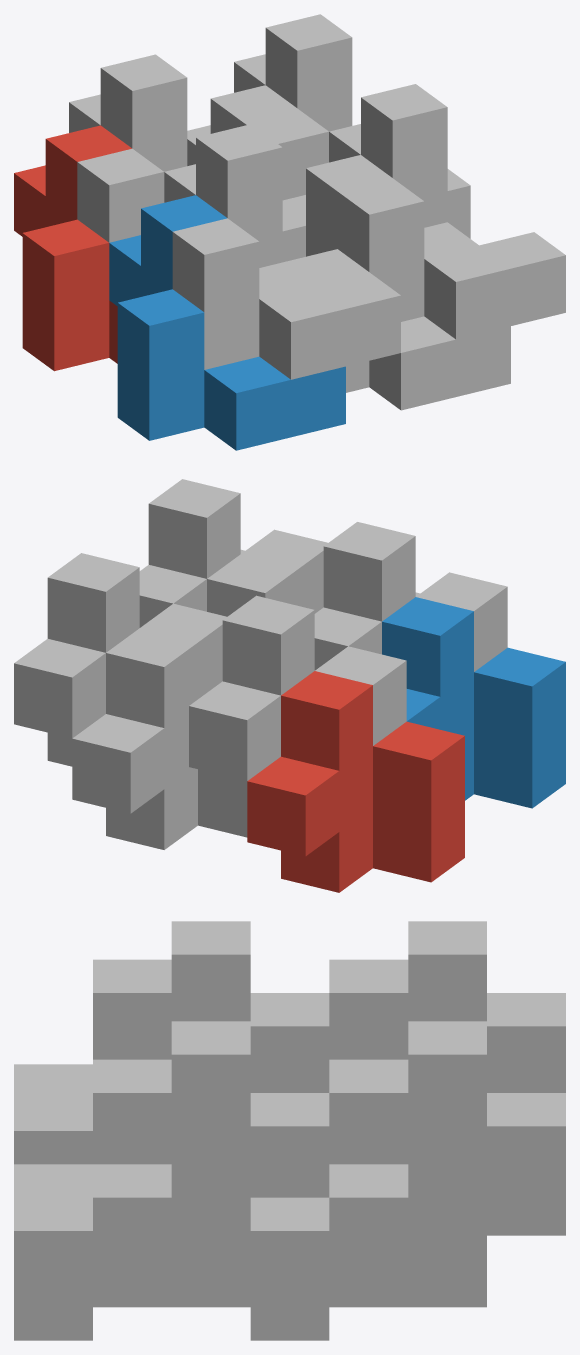
Rendered from tiling.obj.
3 renders of one model, top to bottom at view 1: azimuth 30°, elevation 25°; view 2: azimuth 150°, elevation 25°; view 3: azimuth 270°, elevation 25°, orthographic. The views are drawn at different scales.
Visible parts, largest first — view 1: copy_1_domain_4, copy_1_domain_8, copy_1_domain_2, copy_1_domain_1, copy_1_domain_3, copy_1_domain_6, copy_1_domain_7, copy_1_domain_5; view 2: copy_1_domain_1, copy_1_domain_2, copy_1_domain_5, copy_1_domain_3, copy_1_domain_7, copy_1_domain_4, copy_1_domain_8, copy_1_domain_6; view 3: copy_1_domain_8, copy_1_domain_7, copy_1_domain_4, copy_1_domain_3, copy_1_domain_5, copy_1_domain_6.
Part boxes in pixels (<box>): copy_1_domain_4: <box>164,124,400,379</box>; copy_1_domain_8: <box>329,84,565,339</box>; copy_1_domain_2: <box>109,195,345,450</box>; copy_1_domain_1: <box>14,125,131,371</box>; copy_1_domain_3: <box>69,54,305,262</box>; copy_1_domain_6: <box>282,155,510,410</box>; copy_1_domain_7: <box>234,14,470,238</box>; copy_1_domain_5: <box>187,85,296,165</box>; copy_1_domain_1: <box>247,671,464,892</box>; copy_1_domain_2: <box>382,597,565,808</box>; copy_1_domain_5: <box>72,628,247,849</box>; copy_1_domain_3: <box>189,595,406,809</box>; copy_1_domain_7: <box>14,553,226,766</box>; copy_1_domain_4: <box>314,522,507,671</box>; copy_1_domain_8: <box>139,479,327,627</box>; copy_1_domain_6: <box>207,554,298,616</box>; copy_1_domain_8: <box>14,1021,329,1302</box>; copy_1_domain_7: <box>250,1021,565,1302</box>; copy_1_domain_4: <box>14,921,329,1164</box>; copy_1_domain_3: <box>329,921,565,1092</box>; copy_1_domain_5: <box>250,1197,565,1340</box>; copy_1_domain_6: <box>14,1269,250,1340</box>.
Size of the model in its own units: 7 by 4 by 7.
